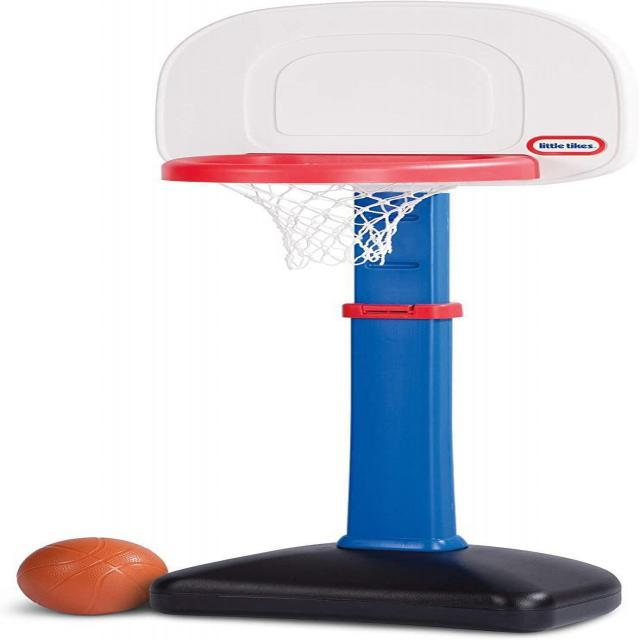Basketball: (17, 537, 169, 616)
hoop: (162, 154, 540, 270)
